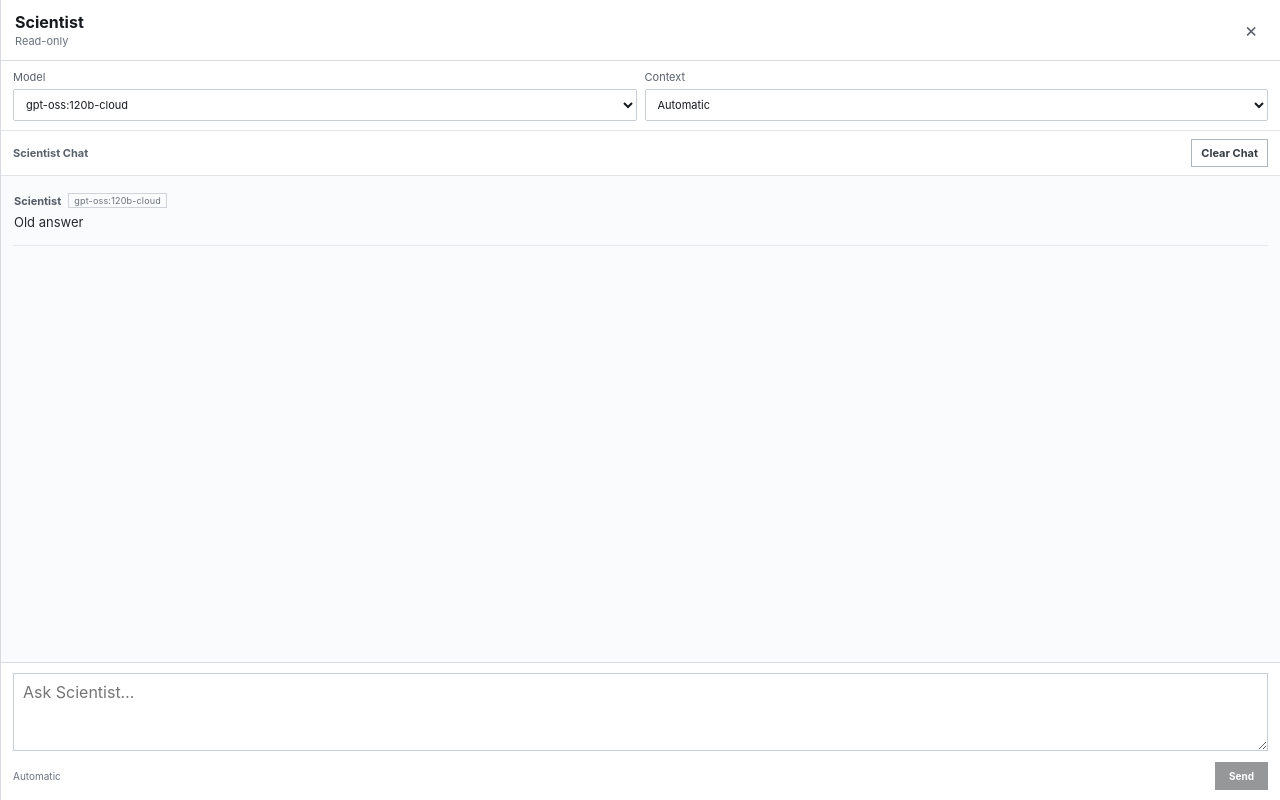
it: Scientist right drawer › clear chat rotates to a fresh thread and old history is not loaded again
Expected: the text "Old answer" is shown, [14,214,83,230]
Click the button "Clear Chat". click: click(1230, 153)
box: [1191,139,1268,167]
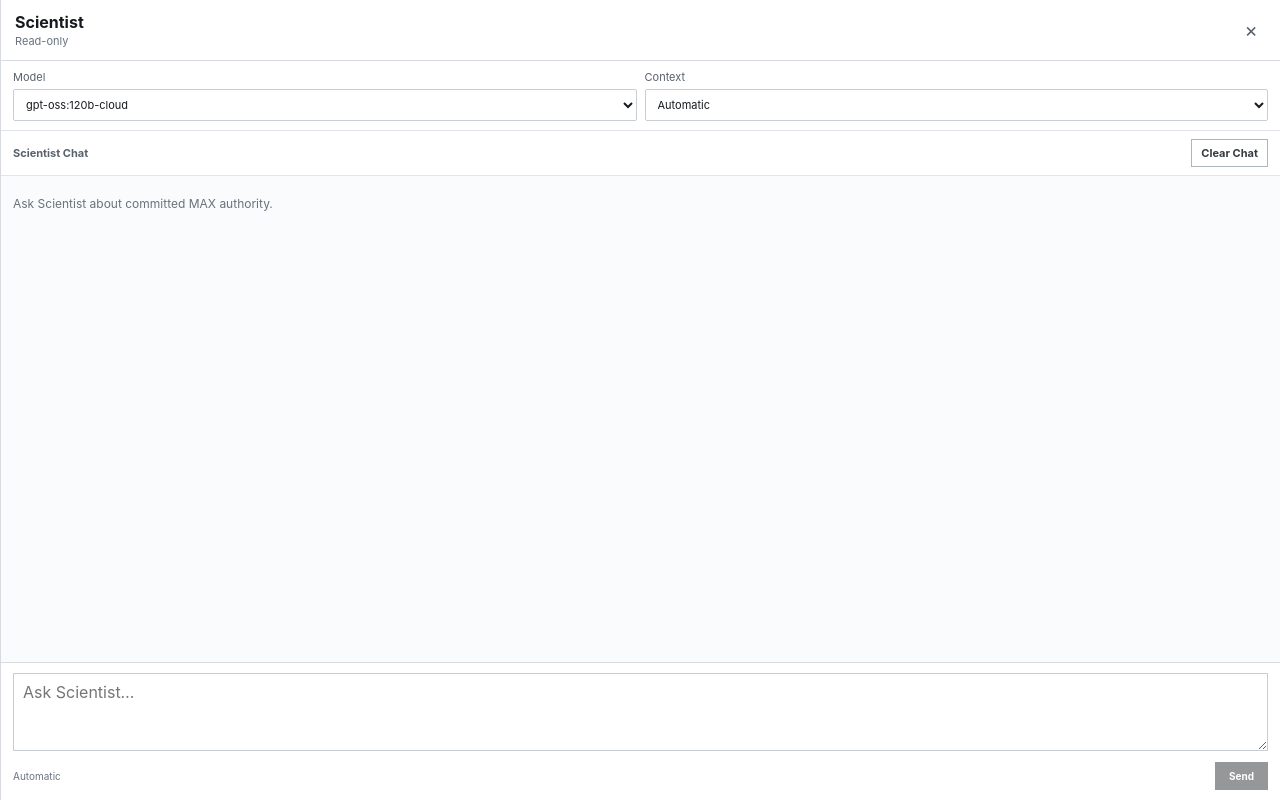
Result: the text "Ask Scientist about committed MAX authority." is shown at [13,196,273,211]
Result: the text "Old answer" is gone
